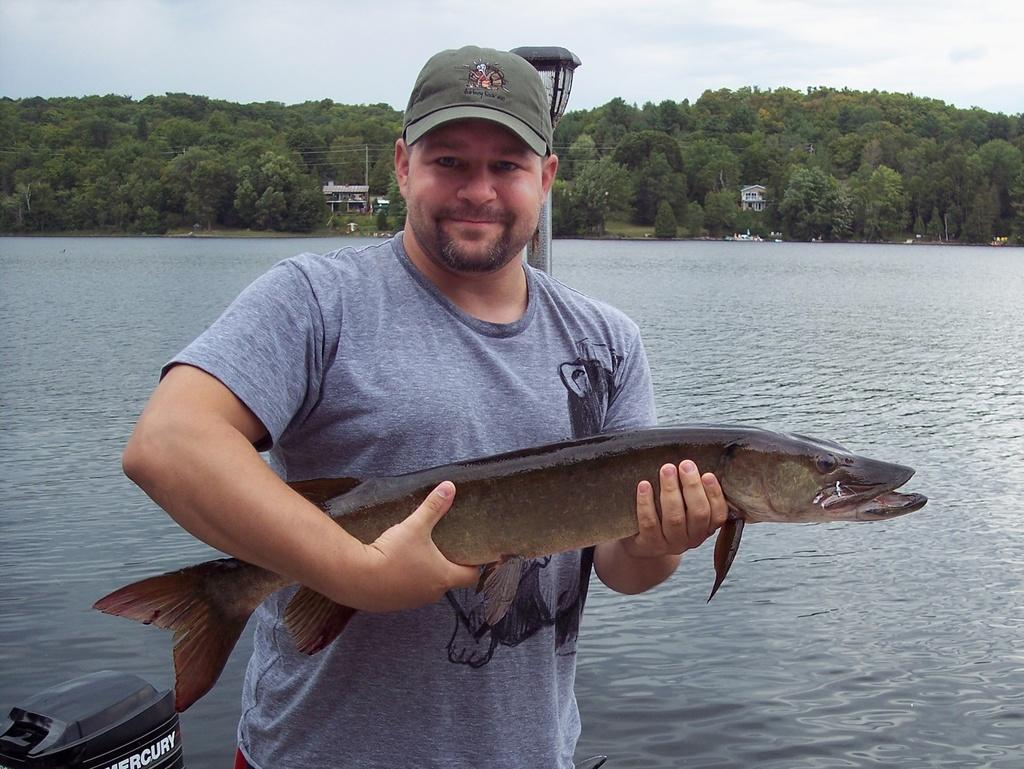Hat: (402, 45, 552, 159)
